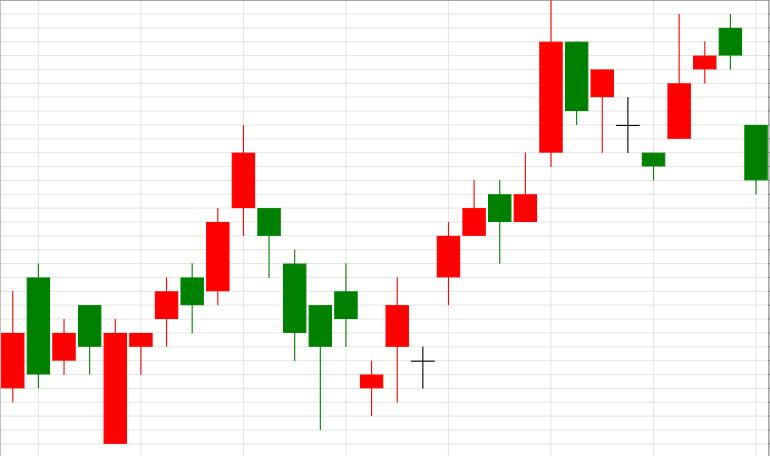morning_star_rise: (257, 208, 409, 429)
